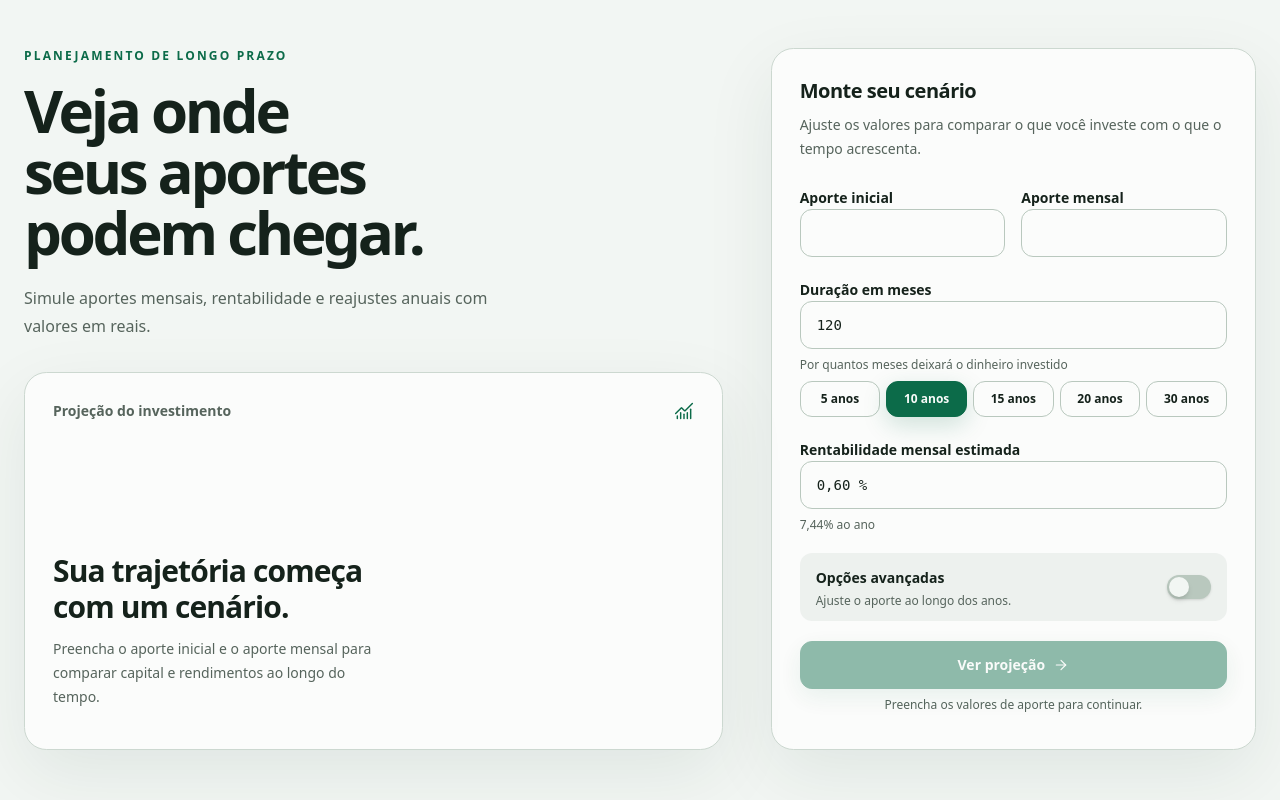
Test: Home › draws the contribution and growth trajectory from valid inputs
This screenshot has width=1280, height=800.
Step 1. Type "10000" into the field labelled "Aporte inicial" → (903, 233), box [800,209,1005,257]
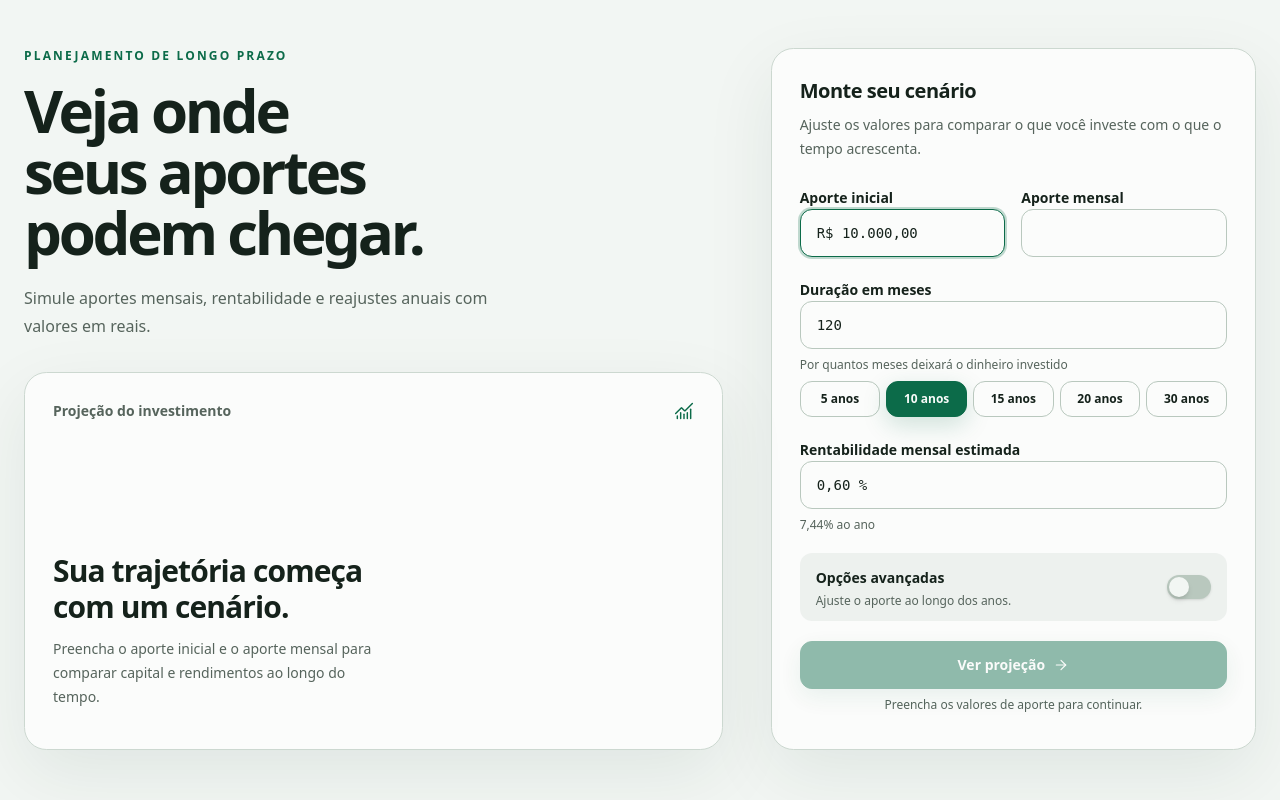
Step 2. Type "1000" into the field labelled "Aporte mensal" → (1124, 233), box [1021,209,1227,257]
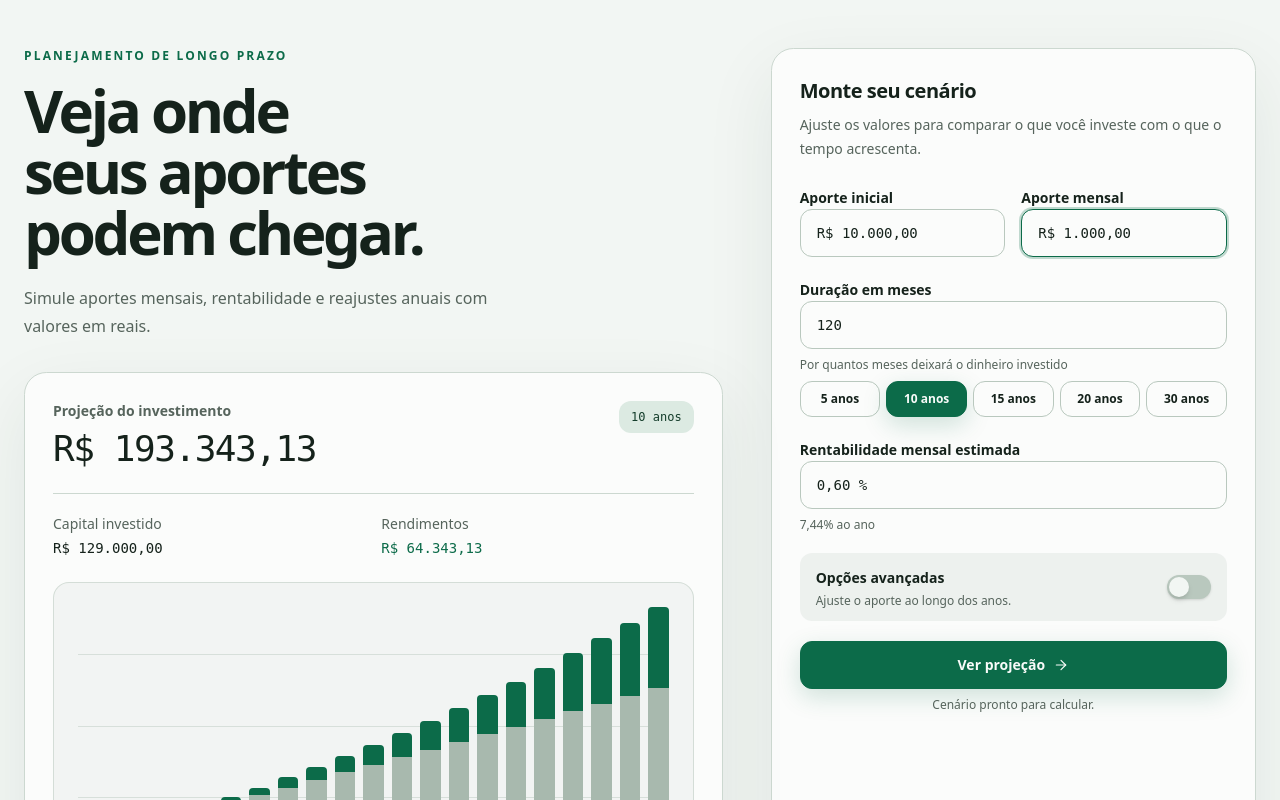
Expected: the text "10 anos" is shown, [619,401,694,433]
